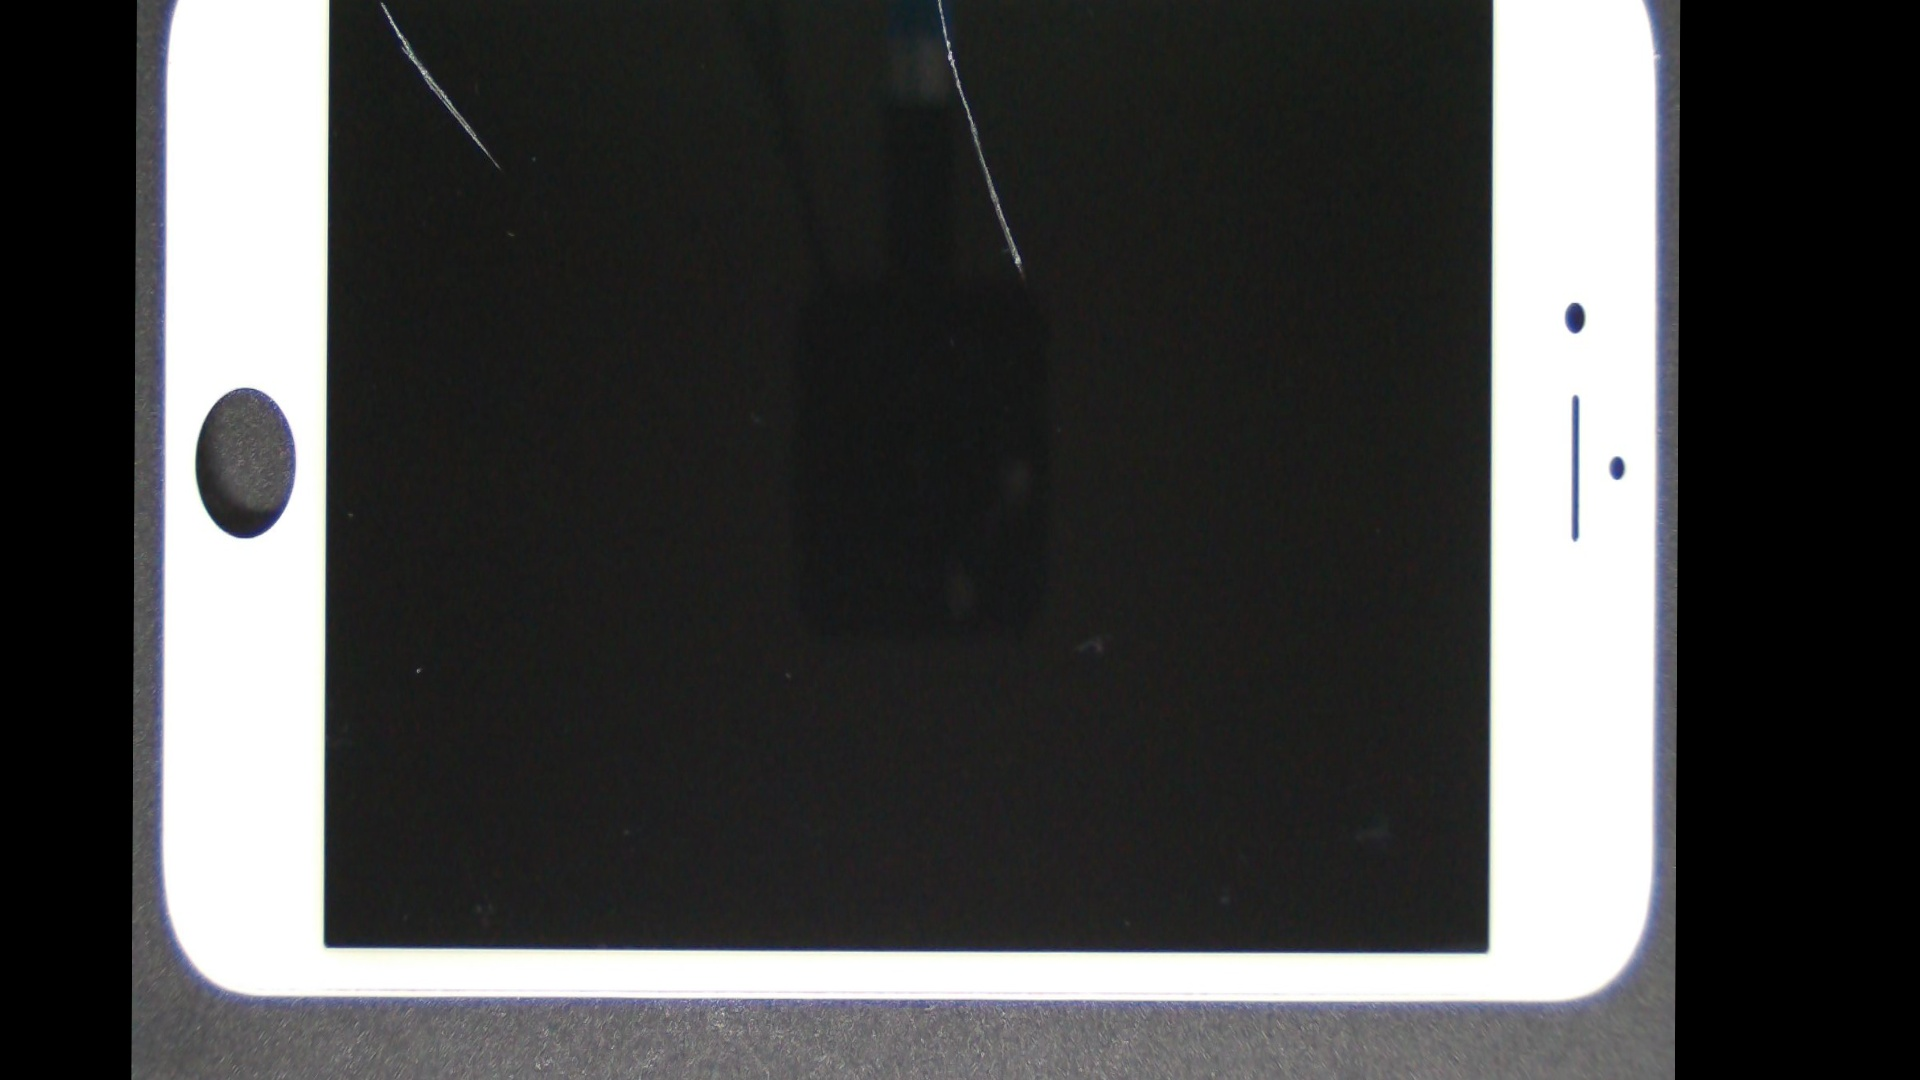oil: (537, 0, 1336, 45), (258, 0, 502, 70)
